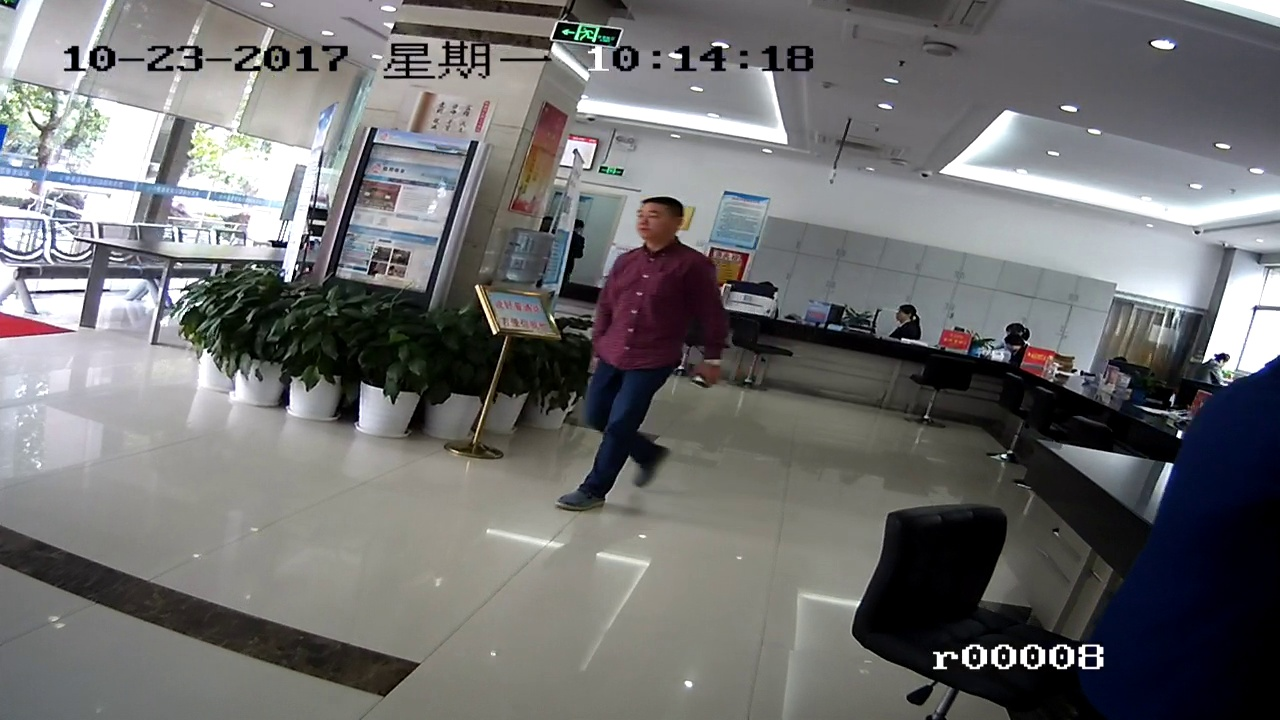billboard: (360, 138, 430, 280), (488, 279, 558, 339), (718, 183, 765, 245)
chair: (861, 495, 1050, 720), (2, 211, 64, 323), (910, 354, 967, 436), (735, 322, 784, 393), (1001, 381, 1035, 474)
person: (586, 201, 718, 519), (893, 302, 929, 331)
pot: (204, 263, 280, 406), (372, 305, 437, 441), (300, 288, 357, 421)
